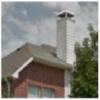chimneys: (56, 10, 76, 66)
